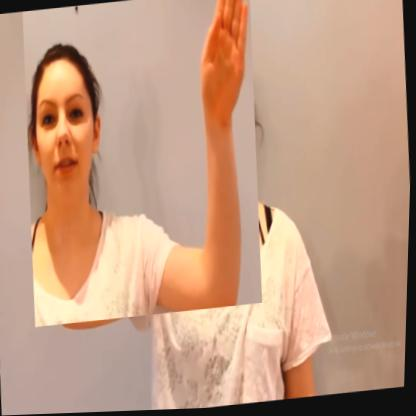Hello: (14, 0, 271, 327)
